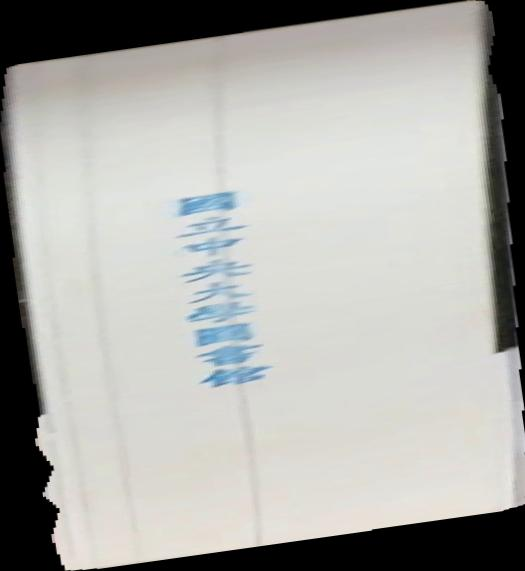backward: (1, 1, 525, 571)
